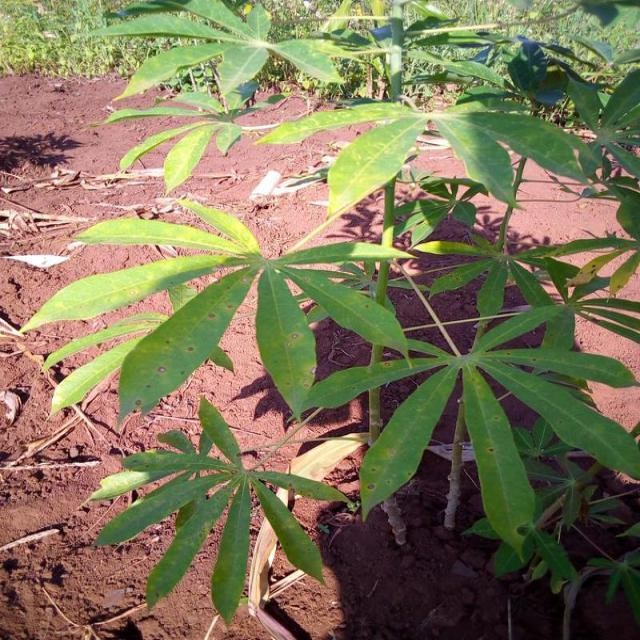cassava leaf: (115, 261, 258, 432), (460, 360, 536, 562), (326, 113, 426, 220), (254, 262, 317, 422)
